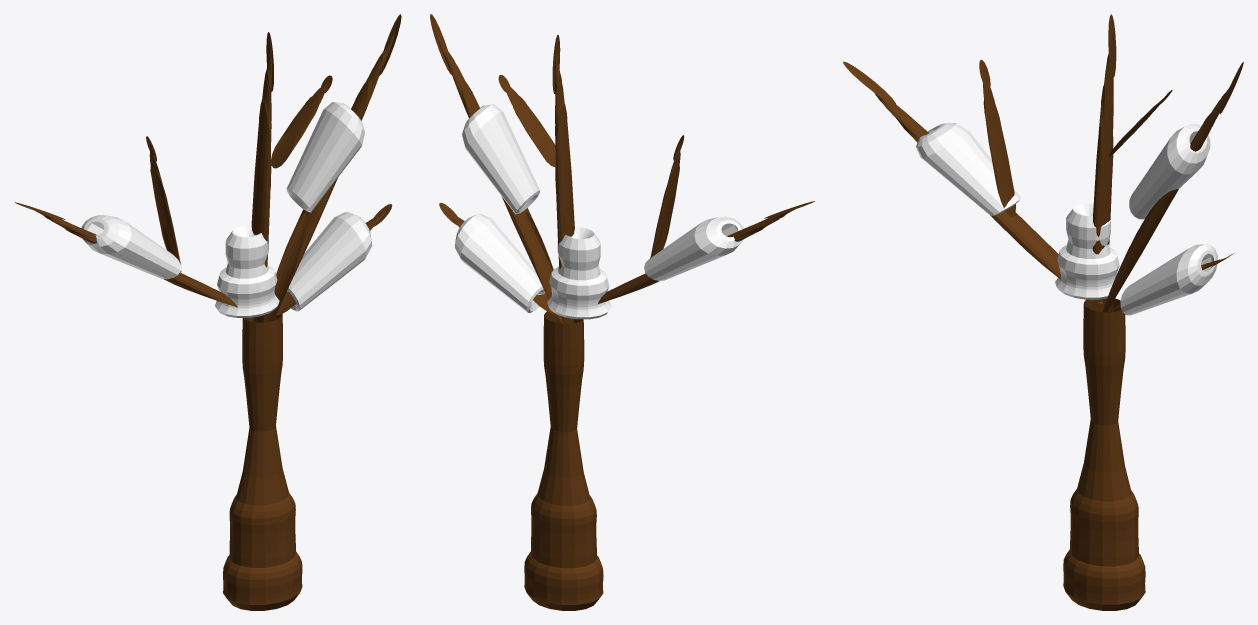
The model's file is treewithnoleavesFBX.fbx.
3 views of the same model, side by side, from view 1: azimuth 30°, elevation 25°; view 2: azimuth 150°, elevation 25°; view 3: azimuth 330°, elevation 25° (orthographic). The views are drawn at different scales.
Visible parts, largest first — view 1: 開いた線形状の回転体_ncl1_10, 開いた線形状の回転体_ncl1_1, 開いた線形状の回転体_ncl1_2, 開いた線形状の回転体, 開いた線形状の回転体_ncl1_3, 開いた線形状の回転体_ncl1_5, 開いた線形状の回転体_ncl1_4, 開いた線形状の回転体_ncl1_8, 開いた線形状の回転体_ncl1_9, 開いた線形状の回転体_ncl1_6; view 2: 開いた線形状の回転体_ncl1_10, 開いた線形状の回転体_ncl1_1, 開いた線形状の回転体_ncl1_2, 開いた線形状の回転体, 開いた線形状の回転体_ncl1_3, 開いた線形状の回転体_ncl1_4, 開いた線形状の回転体_ncl1_5, 開いた線形状の回転体_ncl1_8, 開いた線形状の回転体_ncl1_6, 開いた線形状の回転体_ncl1_9; view 3: 開いた線形状の回転体_ncl1_10, 開いた線形状の回転体_ncl1_3, 開いた線形状の回転体, 開いた線形状の回転体_ncl1_2, 開いた線形状の回転体_ncl1_1, 開いた線形状の回転体_ncl1_4, 開いた線形状の回転体_ncl1_9, 開いた線形状の回転体_ncl1_5, 開いた線形状の回転体_ncl1_6.
Boxes of the visible parts, x1,y1,x2,y2 form: 開いた線形状の回転体_ncl1_10: (223, 314, 302, 610); 開いた線形状の回転体_ncl1_1: (286, 102, 364, 212); 開いた線形状の回転体_ncl1_2: (287, 212, 372, 311); 開いた線形状の回転体: (215, 225, 279, 317); 開いた線形状の回転体_ncl1_3: (81, 215, 181, 279); 開いた線形状の回転体_ncl1_5: (264, 14, 401, 322); 開いた線形状の回転体_ncl1_4: (251, 32, 273, 322); 開いた線形状の回転体_ncl1_8: (271, 75, 332, 168); 開いた線形状の回転体_ncl1_9: (15, 202, 237, 307); 開いた線形状の回転体_ncl1_6: (146, 136, 181, 272); 開いた線形状の回転体_ncl1_10: (524, 311, 603, 610); 開いた線形状の回転体_ncl1_1: (462, 104, 539, 214); 開いた線形状の回転体_ncl1_2: (455, 214, 545, 312); 開いた線形状の回転体: (547, 227, 611, 319); 開いた線形状の回転体_ncl1_3: (644, 216, 743, 280); 開いた線形状の回転体_ncl1_4: (552, 34, 574, 323); 開いた線形状の回転体_ncl1_5: (430, 14, 562, 323); 開いた線形状の回転体_ncl1_8: (498, 75, 555, 166); 開いた線形状の回転体_ncl1_6: (650, 135, 684, 258); 開いた線形状の回転体_ncl1_9: (598, 201, 814, 303); 開いた線形状の回転体_ncl1_10: (1063, 298, 1145, 610); 開いた線形状の回転体_ncl1_3: (916, 123, 1020, 215); 開いた線形状の回転体: (1055, 204, 1119, 299); 開いた線形状の回転体_ncl1_2: (1120, 244, 1217, 315); 開いた線形状の回転体_ncl1_1: (1129, 124, 1210, 219); 開いた線形状の回転体_ncl1_4: (1092, 14, 1116, 311); 開いた線形状の回転体_ncl1_9: (843, 61, 1102, 303); 開いた線形状の回転体_ncl1_5: (1103, 62, 1243, 312); 開いた線形状の回転体_ncl1_6: (979, 60, 1015, 216).
Size of the model in its own units: 250 by 350 by 38.82.
